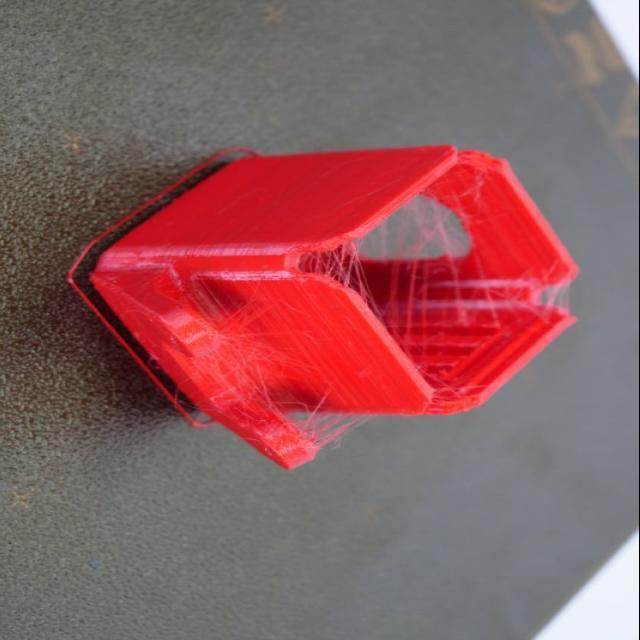stringing: (342, 219, 506, 346)
